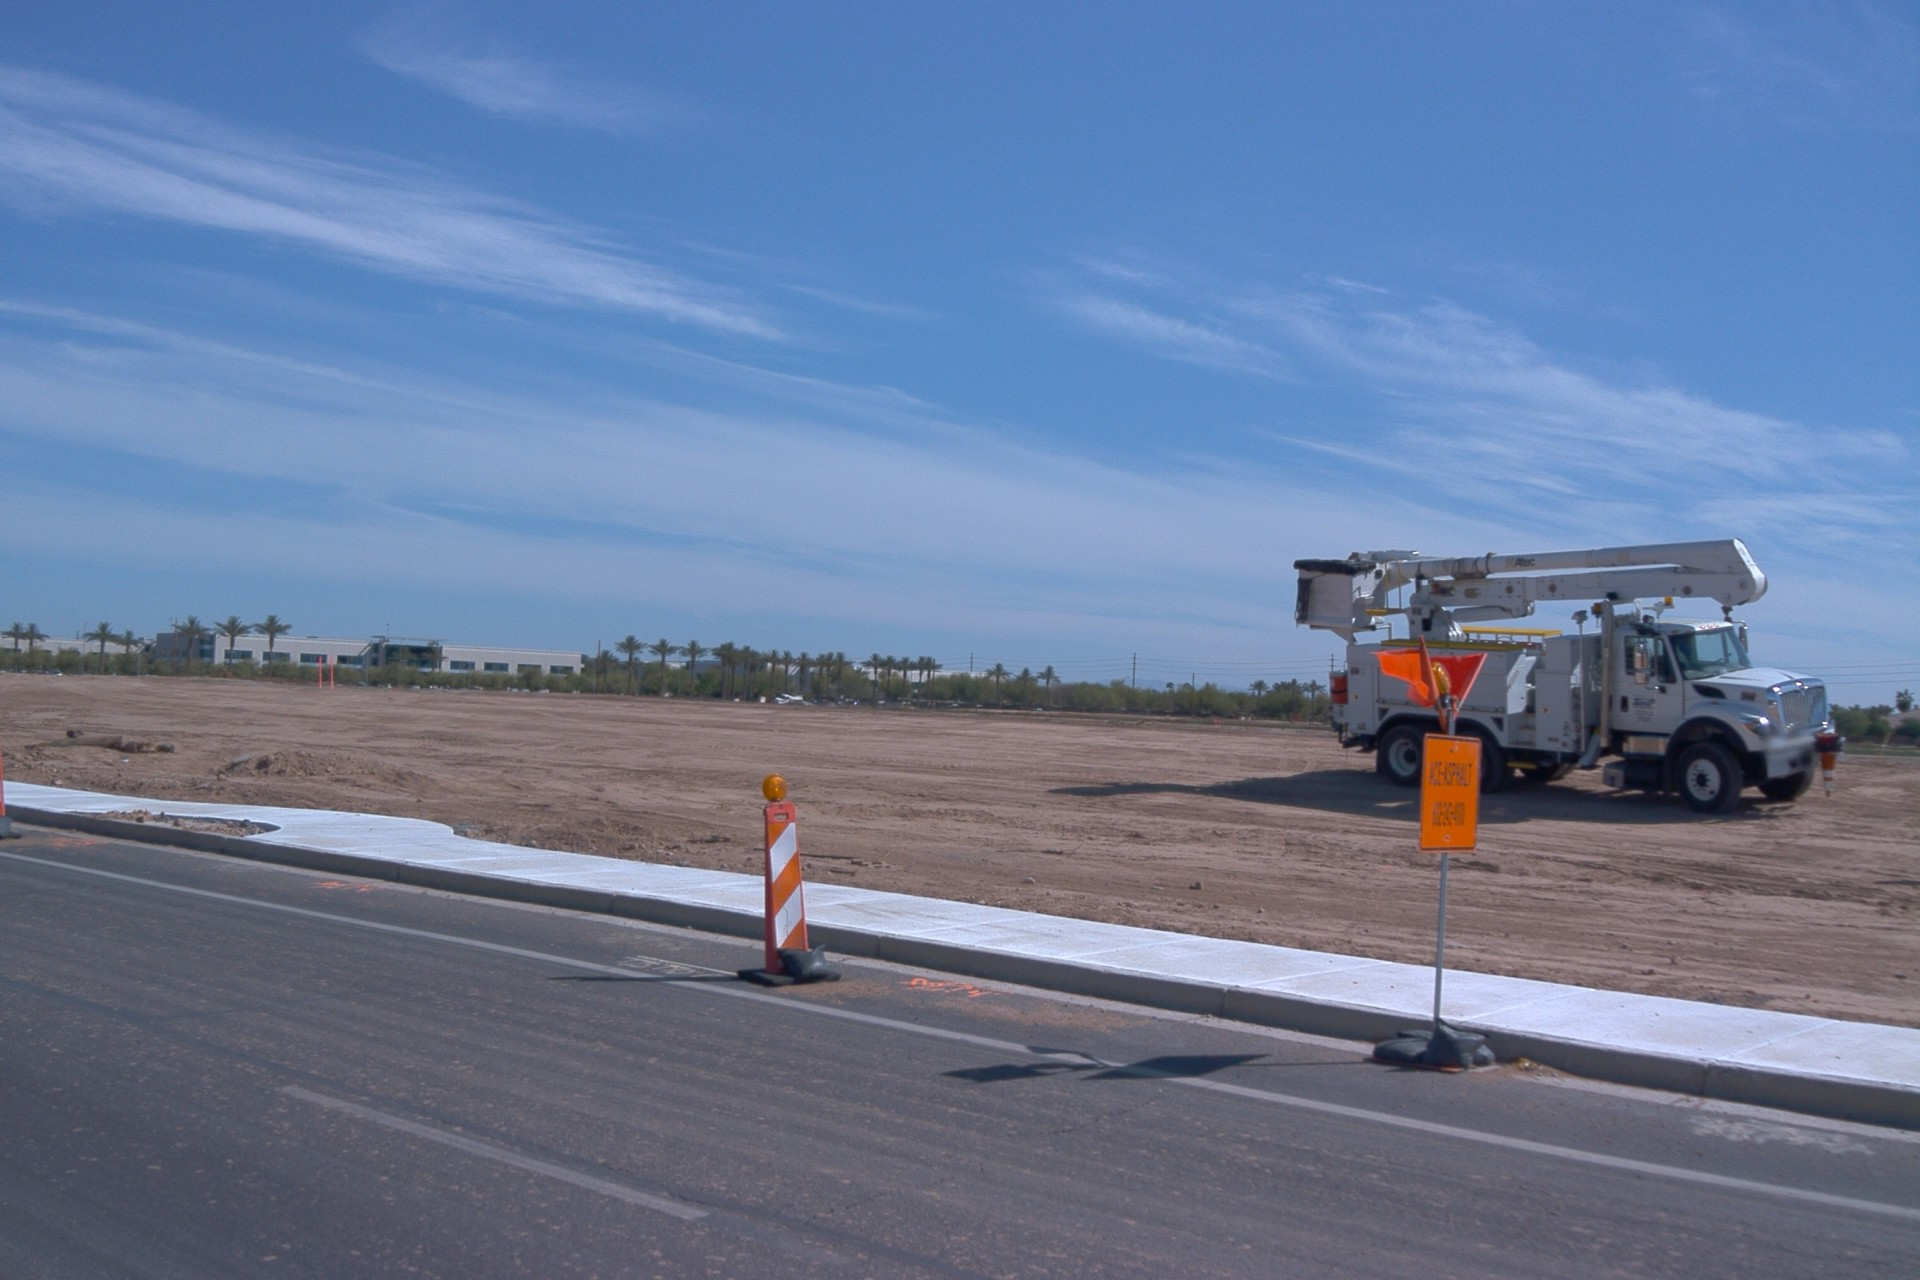TYPE_VEHICLE: (1295, 540, 1854, 819)
